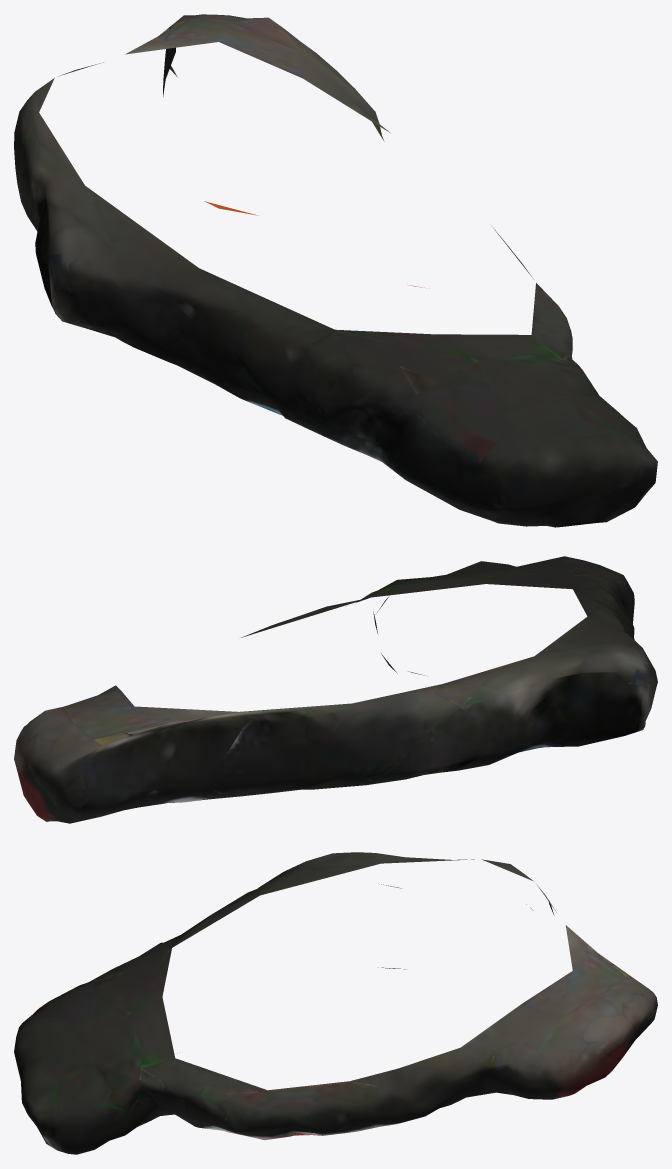
File: hall.glb
The picture shows the model from 3 angles, top to bottom: view 1: azimuth 30°, elevation 25°; view 2: azimuth 150°, elevation 25°; view 3: azimuth 270°, elevation 25°; orthographic projection. The views are drawn at different scales.
Bounding box in the file's own units: 0.4393 × 0.2356 × 0.7232.
Materials: 1 (1 with a texture image).
